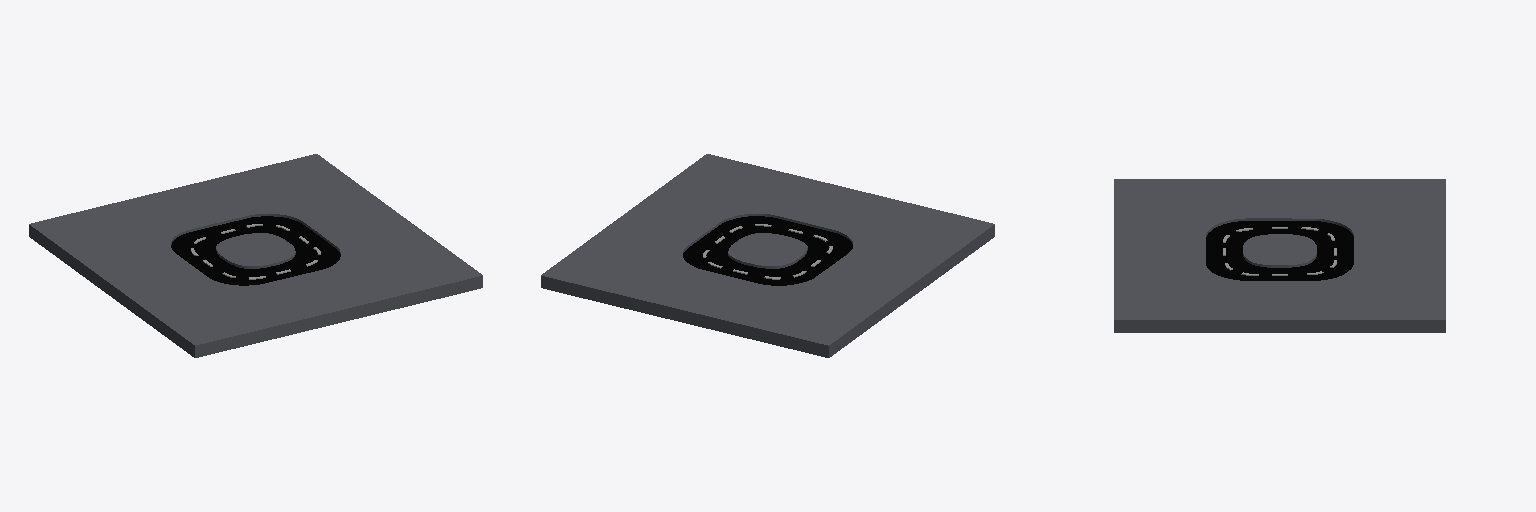
Rendered from street.obj.
3 views of the same model, side by side, from view 1: azimuth 30°, elevation 25°; view 2: azimuth 150°, elevation 25°; view 3: azimuth 270°, elevation 25° (orthographic).
Parts seen in each view (by area): view 1: Street_Curve_Cube.004; view 2: Street_Curve_Cube.004; view 3: Street_Curve_Cube.004.
Part boxes in pixels (left/top/right/bottom): Street_Curve_Cube.004: left=29, top=154, right=482, bottom=357; Street_Curve_Cube.004: left=541, top=154, right=994, bottom=357; Street_Curve_Cube.004: left=1114, top=179, right=1445, bottom=332.
Bounding box in the file's own units: 18 × 0.75 × 18.